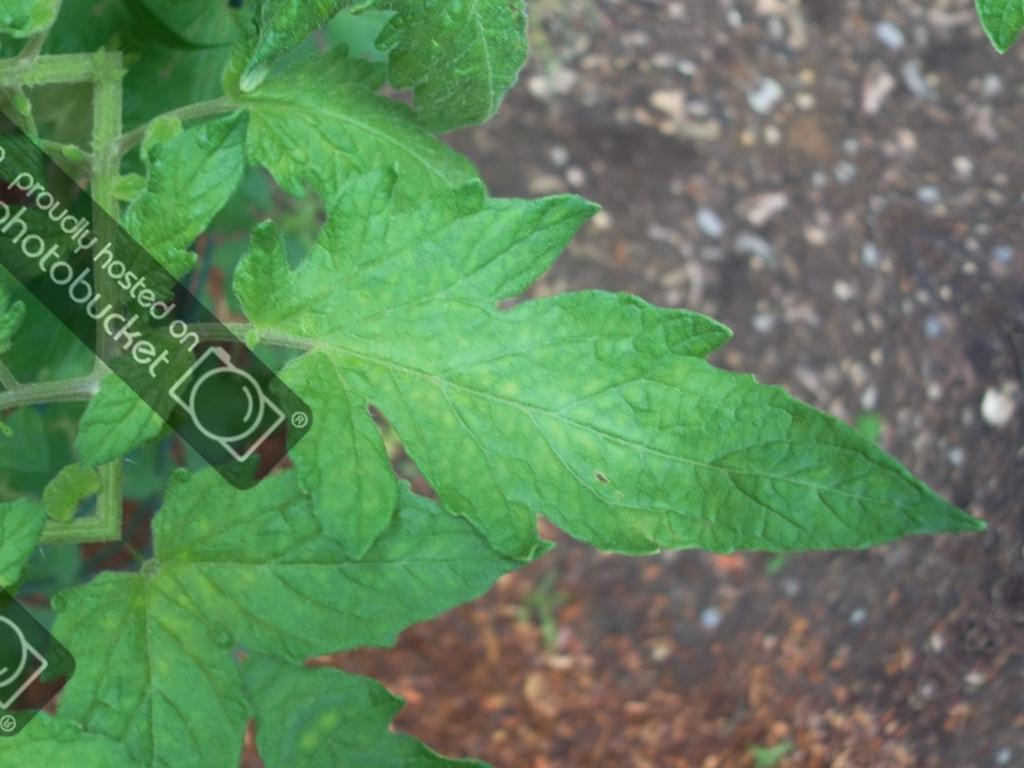Tomato mold leaf: (154, 20, 1001, 768)
